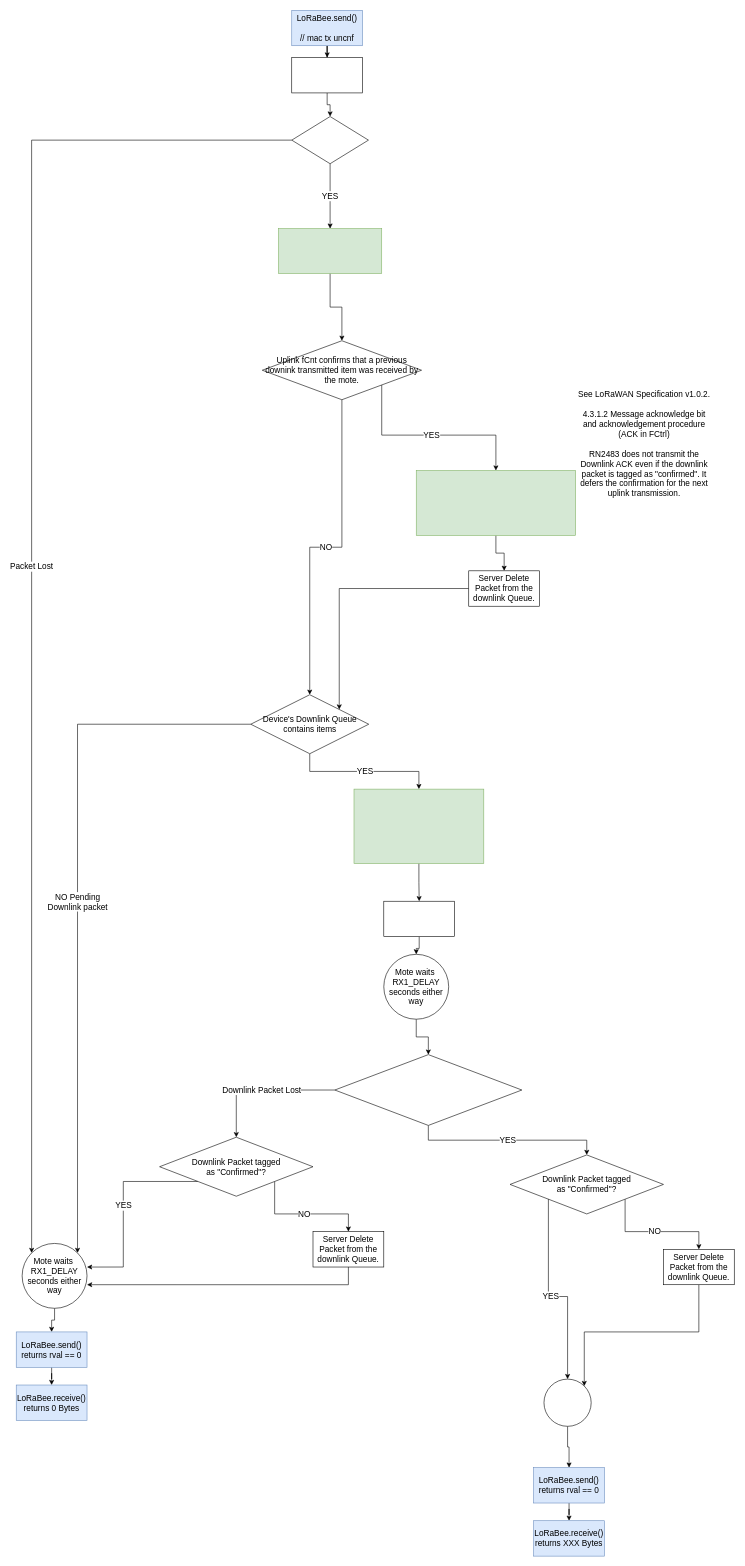
This 745x1566 diagram has some shape labels left out. Here are the shapes that lost their labels. From the top down, the centre of each, then its label:
At point 327,75: "Module Transmits uplink packet".
At point 329,140: "Packet received by the Base station".
At point 330,250: "MQTT shows gateway/.../rx application/.../rx".
At point 496,502: "MQTT shows application/1/node/0004a30b001b27ee/ack".
At point 418,826: "MQTT shows gateway/.../tx".
At point 419,919: "Base station transmits downlink packet".
At point 428,1089: "Downlink packet received by the mote?".
